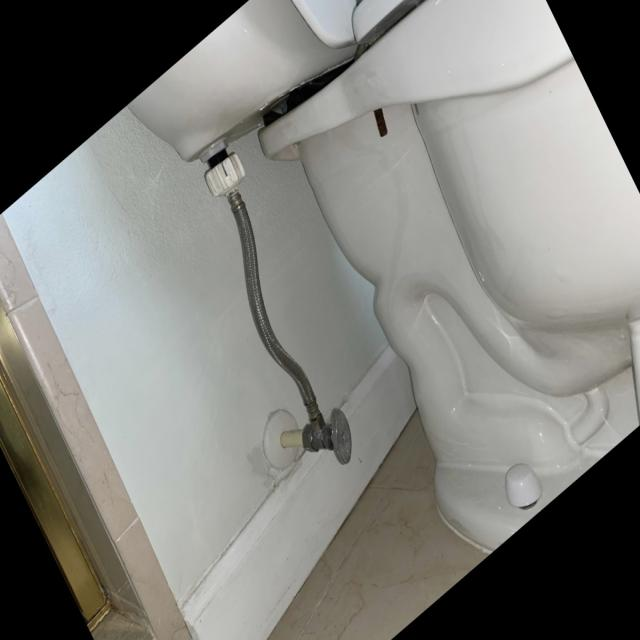good_coupler: (204, 152, 246, 198)
good_line: (226, 193, 326, 426)
good_valve: (299, 406, 354, 471)
rusty_bolt: (366, 103, 395, 144)
